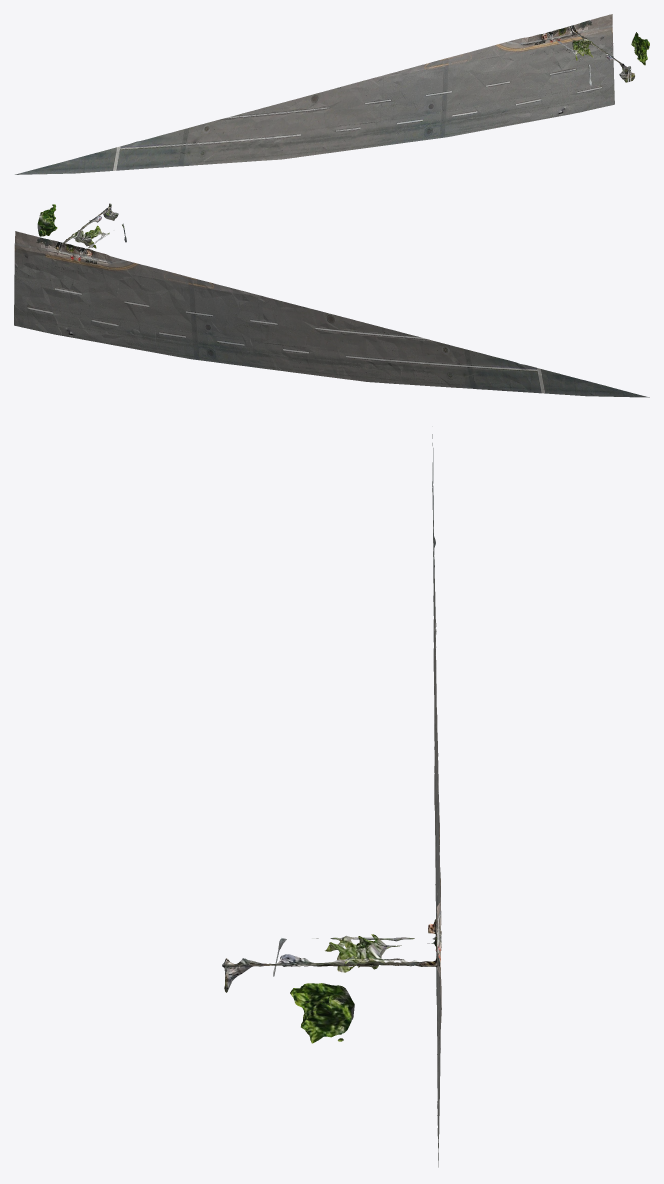
Rendered from Tile_+001_+001.obj_deoffset.glb.
3 views of the same model, one above another, from view 1: azimuth 30°, elevation 25°; view 2: azimuth 150°, elevation 25°; view 3: azimuth 270°, elevation 25° (orthographic). The views are drawn at different scales.
Visible parts, largest first — view 1: Node; view 2: Node; view 3: Node.
Part boxes in pixels (<box>): Node: <box>15,14,649,174</box>; Node: <box>14,203,649,397</box>; Node: <box>222,434,441,1167</box>.
Size of the model in its own units: 85.59 by 12.31 by 13.52.
1 material, 1 textured.
